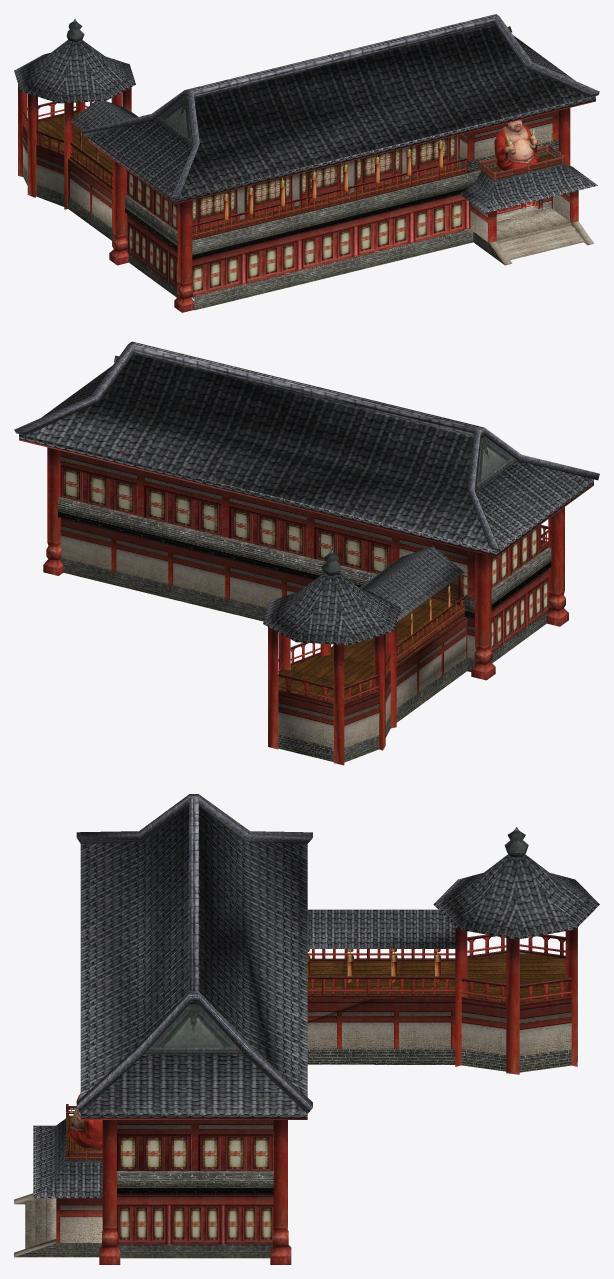
File: cj_pub05.glb
3 renders of one model, top to bottom at view 1: azimuth 30°, elevation 25°; view 2: azimuth 150°, elevation 25°; view 3: azimuth 270°, elevation 25°, orthographic. The views are drawn at different scales.
Parts seen in each view (by area): view 1: CJ_pub05_roof, CJ_pub05_wall01, CJ_pub05_enter, CJ_pub05_winlight, CJ_pub05_fence, CJ_pub05_enter2, CJ_pub05_beerman, CJ_pub05_deco; view 2: CJ_pub05_roof, CJ_pub05_wall01, CJ_pub05_winlight, CJ_pub05_enter, CJ_pub05_enter2, CJ_pub05_fence; view 3: CJ_pub05_roof, CJ_pub05_wall01, CJ_pub05_enter, CJ_pub05_enter2, CJ_pub05_winlight, CJ_pub05_fence, CJ_pub05_beerman, CJ_pub05_deco.
Boxes of the visible parts, x1=… form: CJ_pub05_roof: x1=14, y1=14, x2=599, y2=212; CJ_pub05_wall01: x1=23, y1=108, x2=570, y2=312; CJ_pub05_enter: x1=18, y1=84, x2=594, y2=265; CJ_pub05_winlight: x1=128, y1=136, x2=550, y2=292; CJ_pub05_fence: x1=23, y1=101, x2=564, y2=240; CJ_pub05_enter2: x1=25, y1=112, x2=112, y2=190; CJ_pub05_beerman: x1=494, y1=120, x2=538, y2=172; CJ_pub05_deco: x1=79, y1=130, x2=443, y2=221; CJ_pub05_roof: x1=14, y1=341, x2=599, y2=645; CJ_pub05_wall01: x1=43, y1=447, x2=568, y2=762; CJ_pub05_winlight: x1=63, y1=468, x2=547, y2=648; CJ_pub05_enter: x1=268, y1=542, x2=548, y2=765; CJ_pub05_enter2: x1=278, y1=598, x2=464, y2=703; CJ_pub05_fence: x1=278, y1=525, x2=548, y2=705; CJ_pub05_roof: x1=33, y1=794, x2=599, y2=1198; CJ_pub05_wall01: x1=14, y1=999, x2=571, y2=1264; CJ_pub05_enter: x1=14, y1=927, x2=577, y2=1256; CJ_pub05_enter2: x1=307, y1=952, x2=565, y2=1003; CJ_pub05_winlight: x1=119, y1=1137, x2=271, y2=1239; CJ_pub05_fence: x1=66, y1=934, x2=571, y2=1160; CJ_pub05_beerman: x1=67, y1=1093, x2=102, y2=1148; CJ_pub05_deco: x1=307, y1=949, x2=440, y2=983.
Bounding box in the file's own units: 27.52 × 11.39 × 24.73.
8 materials, 8 textured.
